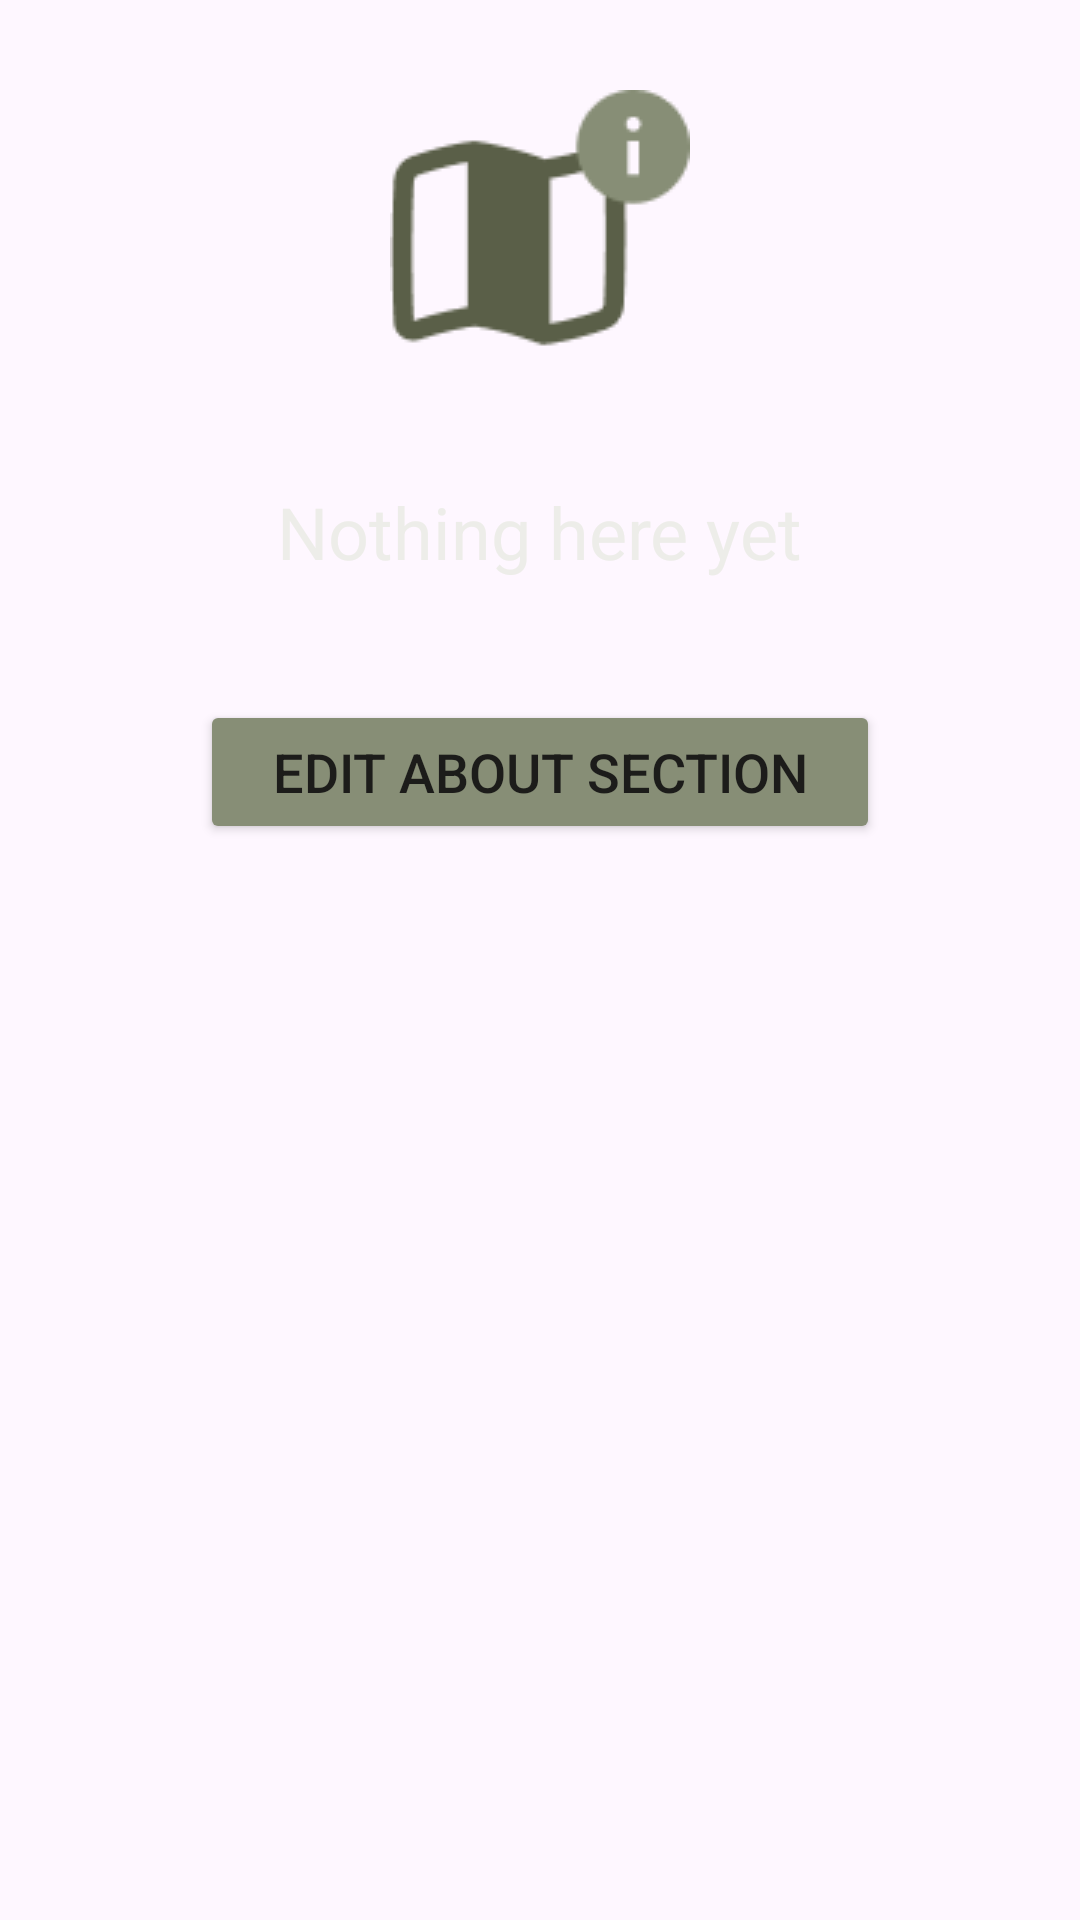

Icons on this 1080x1920 Android screen, each with the point to tap as (x,y):
about: (540,218)
